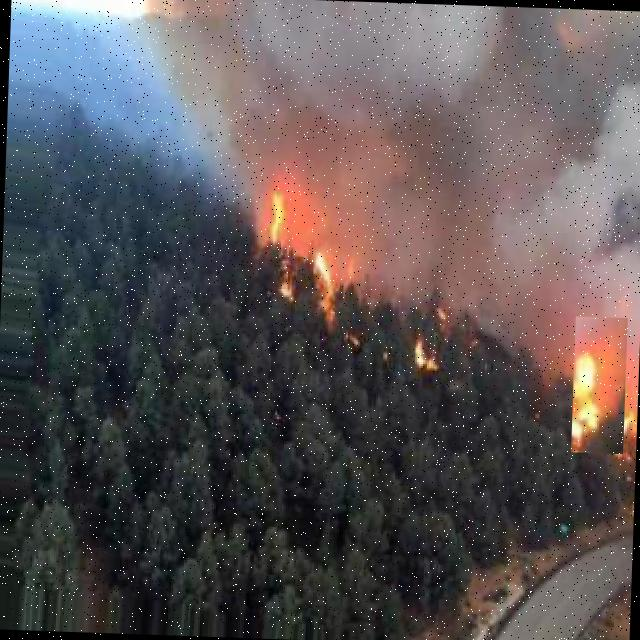fire: (570, 316, 628, 454), (295, 231, 352, 312), (246, 175, 286, 272)
